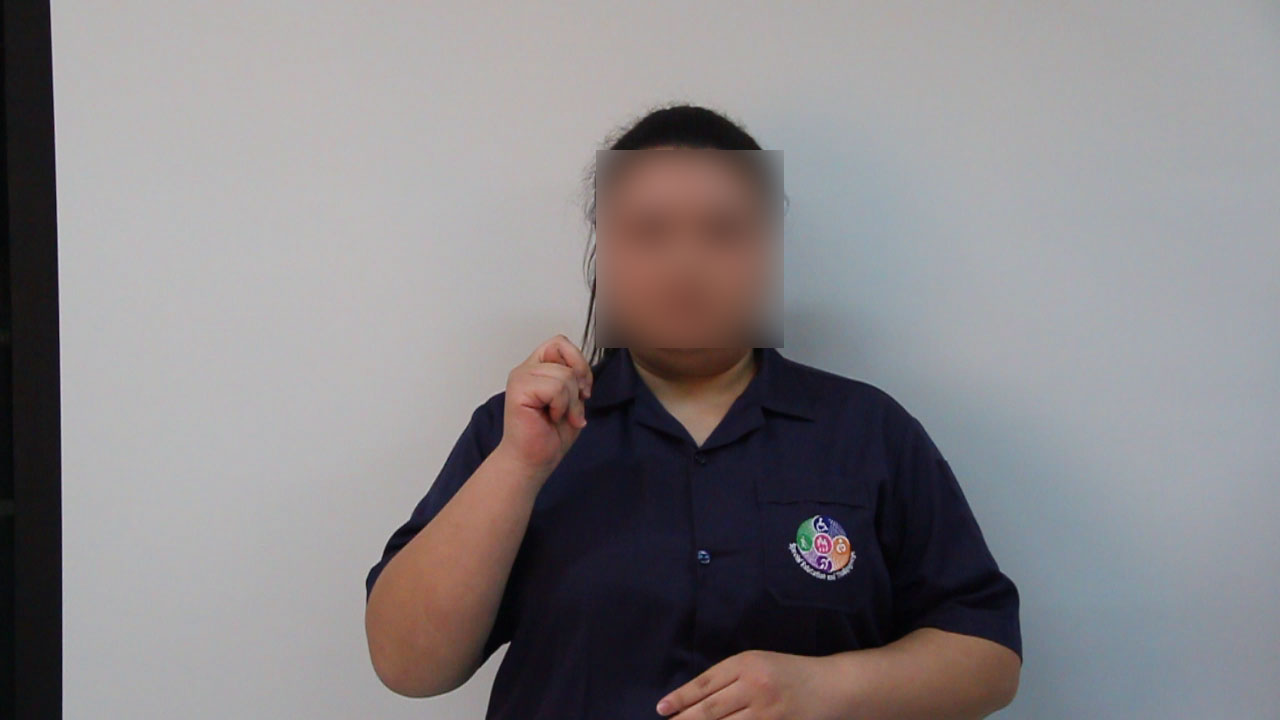nor: (472, 328, 612, 465)
